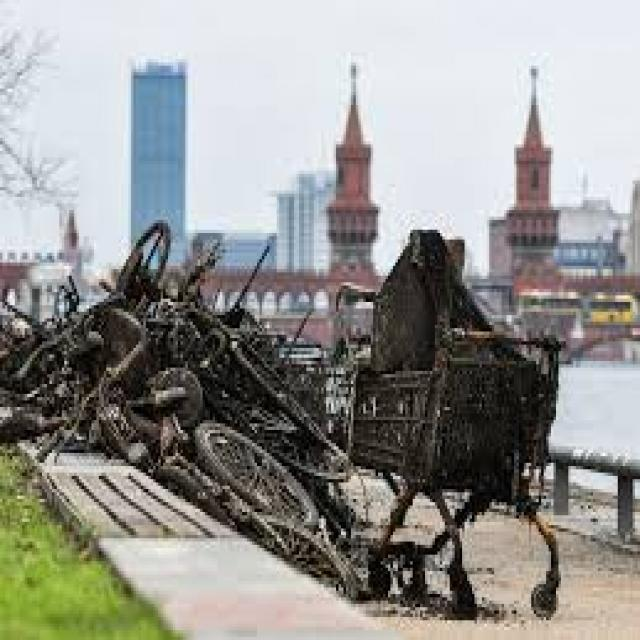garbage: (0, 216, 561, 622)
